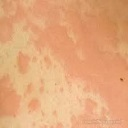Hives: (46, 24, 128, 104), (1, 74, 18, 107)
